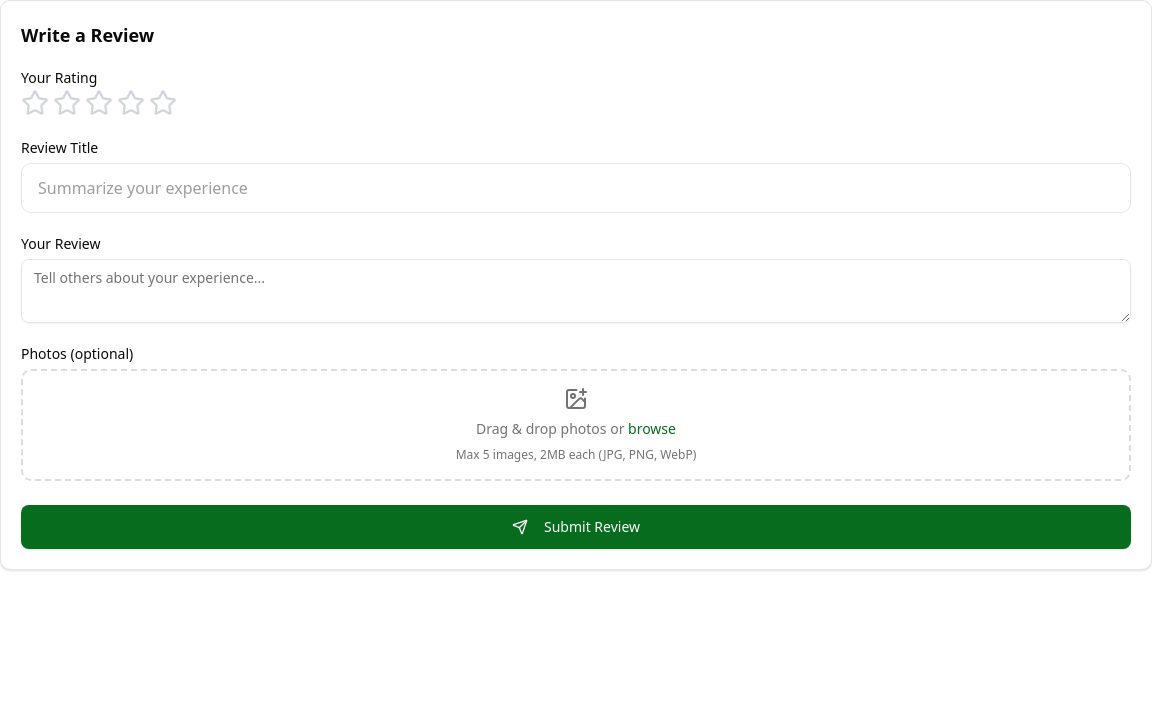
Test: ReviewForm › when user is authenticated and has not reviewed › shows validation error for short title
This screenshot has width=1152, height=720.
Type "ab" into the field labelled "Review Title" at (576, 188), box [21,163,1131,213]
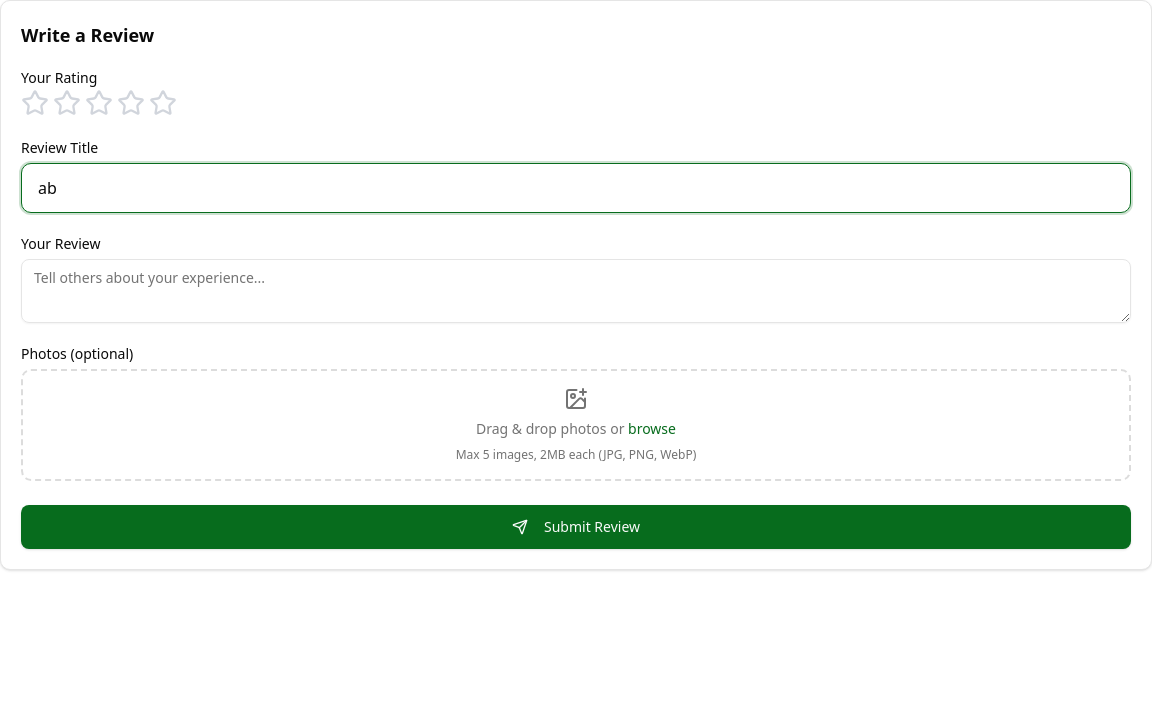
Type "This is a test review content" into the text box labelled "Your Review" at (576, 291), box [21,259,1131,323]
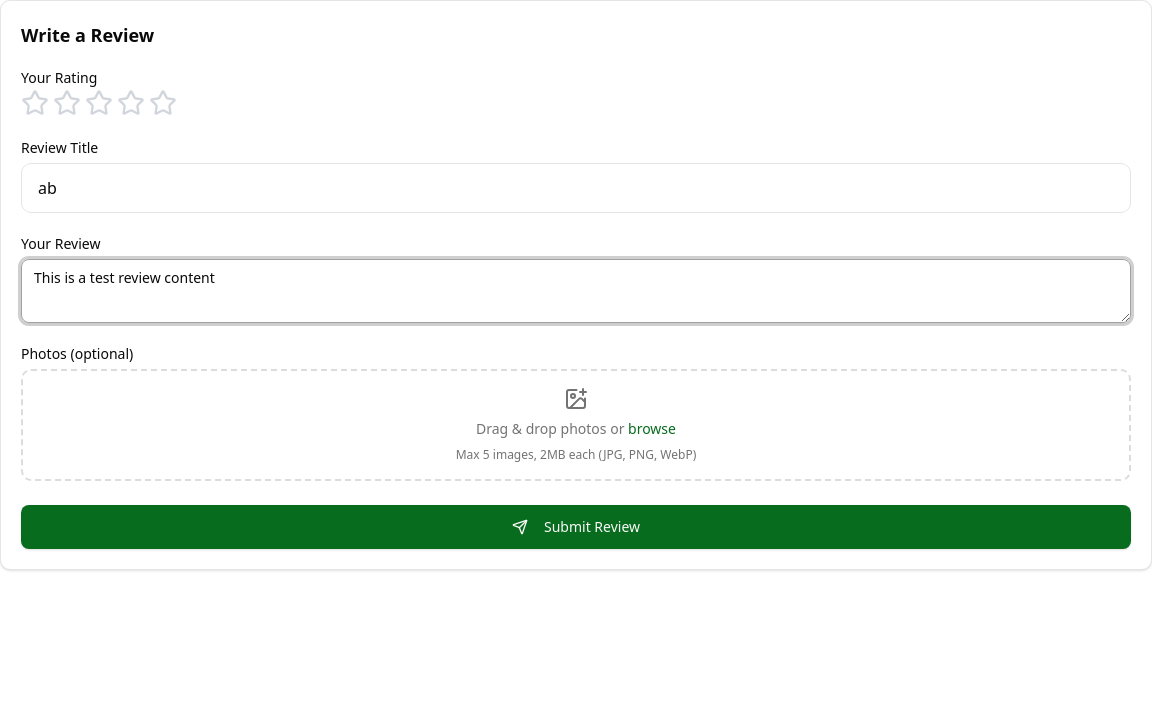
Click the button "Submit Review" at (576, 527), box [21,505,1131,549]
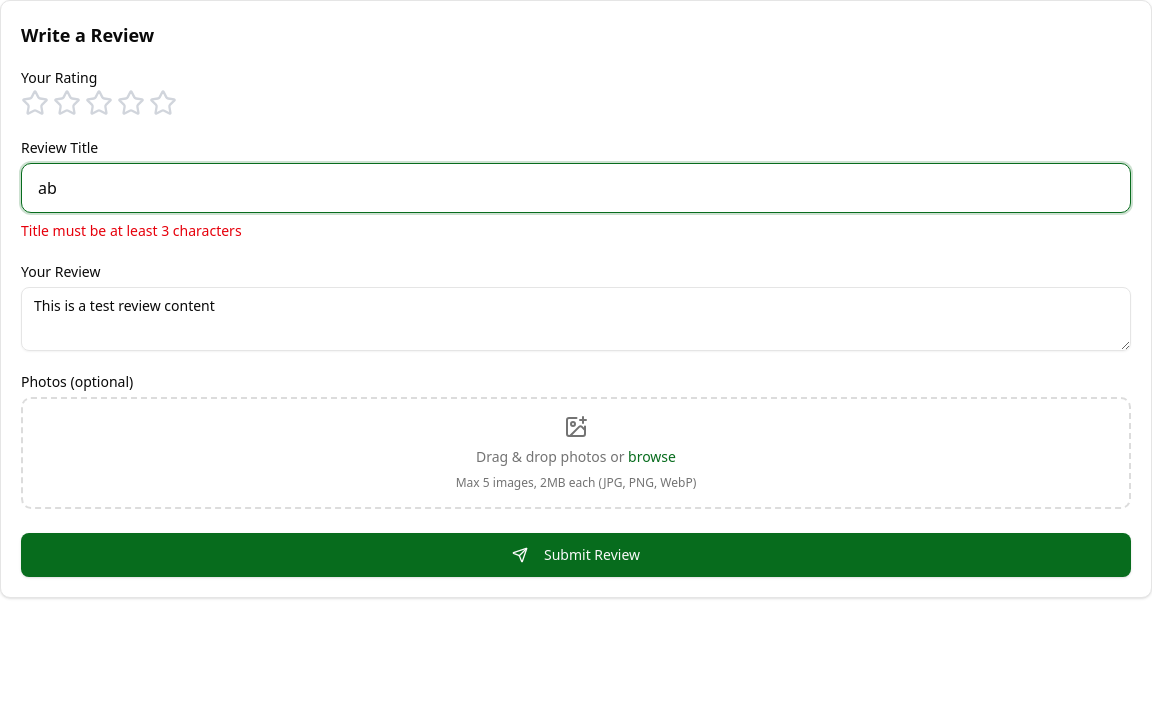
Check: the text "Title must be at least 3 characters" is shown, box [21,221,242,240]
